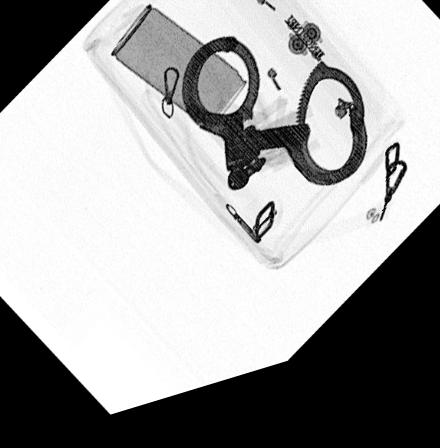HandCuffs: (179, 46, 369, 208)
